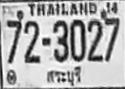0: (70, 19, 85, 61)
2: (24, 20, 40, 64), (87, 18, 103, 62)
3: (52, 20, 68, 62)
7: (104, 17, 119, 62), (6, 23, 21, 65)
SRI: (42, 65, 87, 87)
